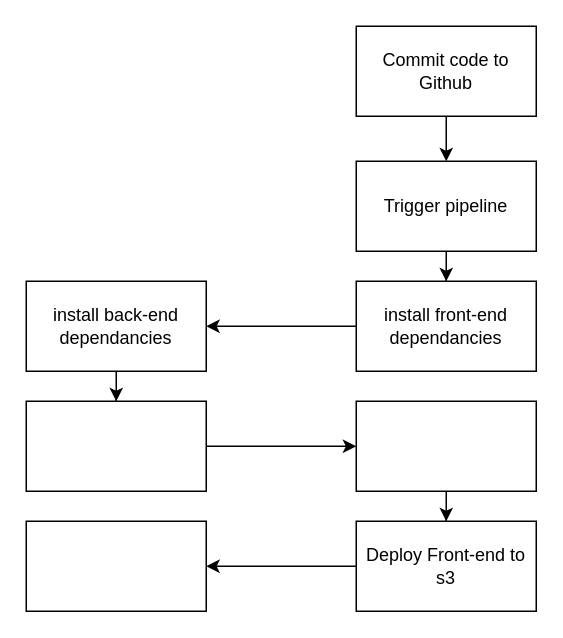
Some shapes in this 563 by 638 pixel diagram are drawn without their labels. The centre of each missing label's shape, as x and y in pixels:
"build back-end" belongs at point 445,445.
"build front-end" belongs at point 115,445.
"Deploy Back-end to eb" belongs at point 115,565.
